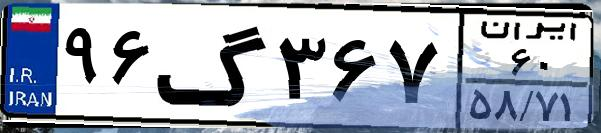0: (537, 27, 568, 80)
1: (560, 70, 590, 125)
3: (270, 28, 330, 110)
5: (470, 70, 495, 125)
6: (330, 28, 385, 110), (110, 28, 156, 98), (508, 27, 537, 80)
7: (385, 28, 445, 110), (535, 70, 560, 125)
8: (495, 70, 520, 125)
9: (57, 26, 110, 100)
گ: (156, 12, 270, 120)
